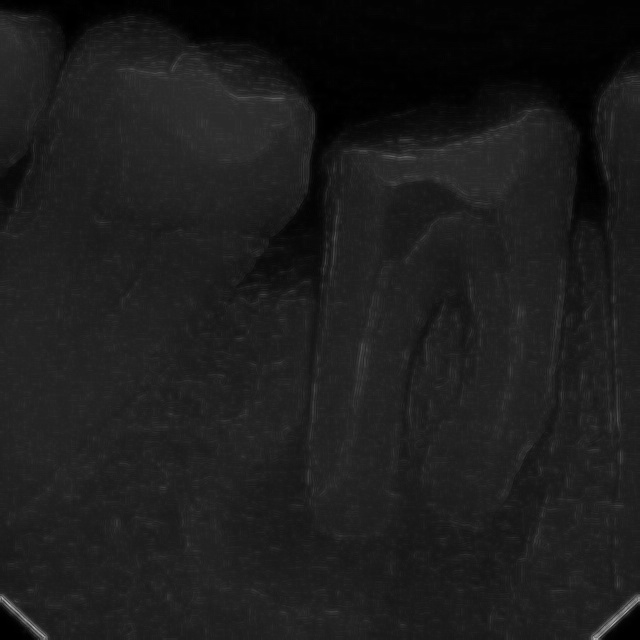Class 1- complete endodontic treatment: (292, 97, 594, 569)
cavity: (1, 14, 294, 562)
